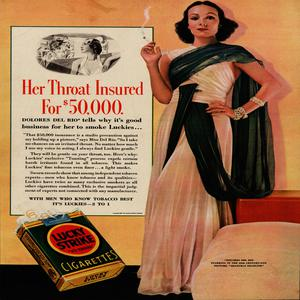cigarette: (141, 33, 160, 52)
